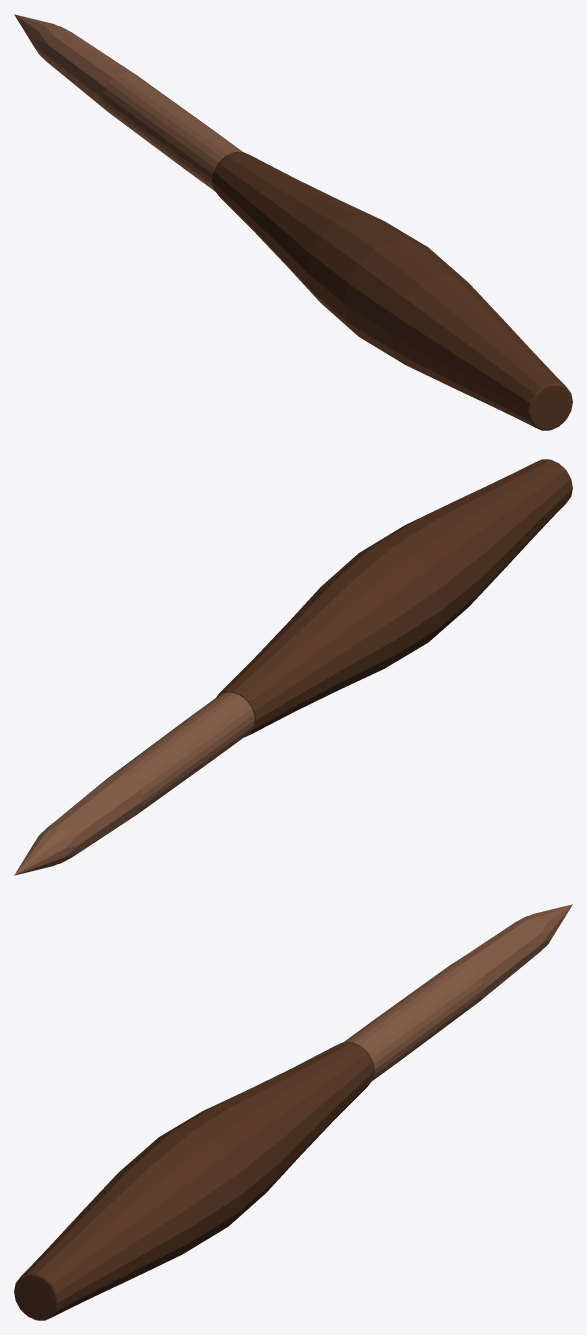
Rendered from Wand 1.glb.
3 renders of one model, top to bottom at view 1: azimuth 30°, elevation 25°; view 2: azimuth 150°, elevation 25°; view 3: azimuth 330°, elevation 25°, orthographic.
Visible parts, largest first — view 1: GeneratedWand; view 2: GeneratedWand; view 3: GeneratedWand.
Part boxes in pixels (bbox=[...]): GeneratedWand: bbox=[14, 14, 572, 430]; GeneratedWand: bbox=[14, 459, 572, 875]; GeneratedWand: bbox=[14, 904, 572, 1320].
Size of the model in its own units: 0.0499 by 0.0499 by 0.4727.
